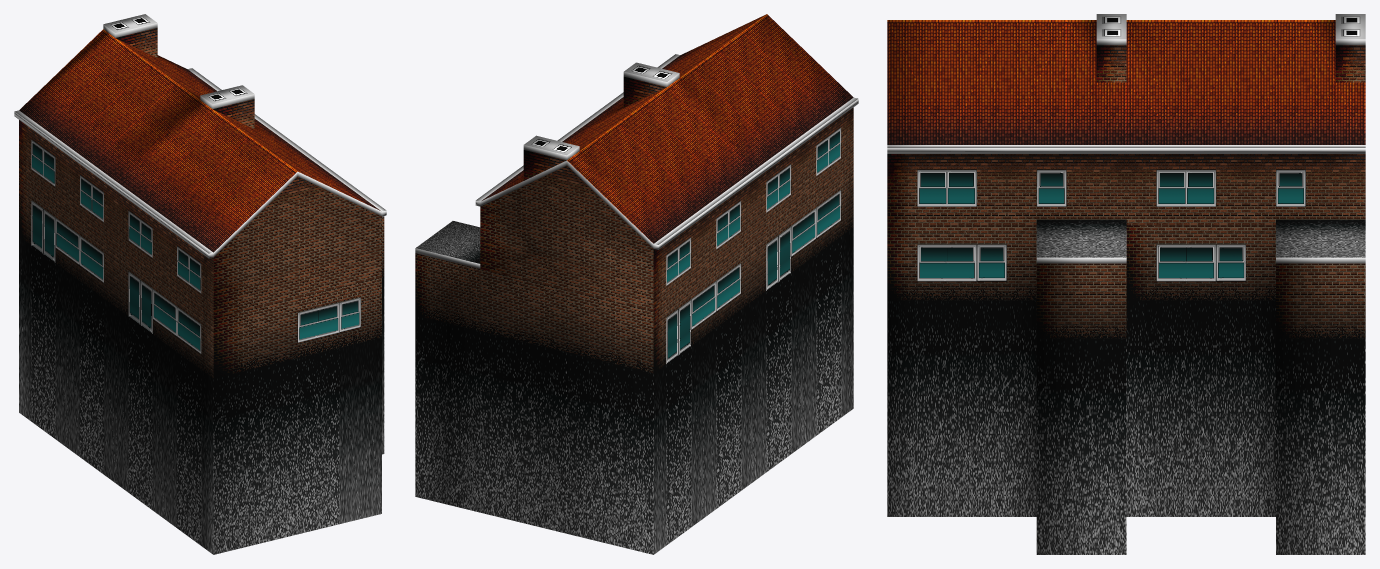
File: doorzon_mod1_2a.fbx
3 renders of one model, left to right at view 1: azimuth 30°, elevation 25°; view 2: azimuth 150°, elevation 25°; view 3: azimuth 270°, elevation 25°, orthographic. The views are drawn at different scales.
Visible parts, largest first — view 1: doorzon_mod1_2a; view 2: doorzon_mod1_2a; view 3: doorzon_mod1_2a.
Part boxes in pixels (x1,y1,x2,y2): doorzon_mod1_2a: [14, 14, 386, 554]; doorzon_mod1_2a: [415, 14, 858, 554]; doorzon_mod1_2a: [887, 14, 1365, 554].
Size of the model in its own units: 1262 by 1879 by 1800.
